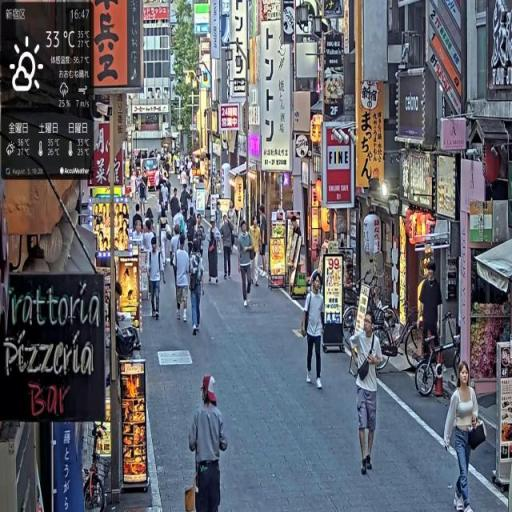person: (348, 307, 384, 478), (189, 374, 232, 512), (445, 361, 484, 512), (302, 272, 327, 392), (419, 257, 444, 364), (172, 237, 192, 325), (189, 240, 206, 338), (239, 218, 256, 310), (148, 239, 164, 322), (221, 215, 236, 281), (207, 220, 221, 287), (259, 206, 270, 275)
